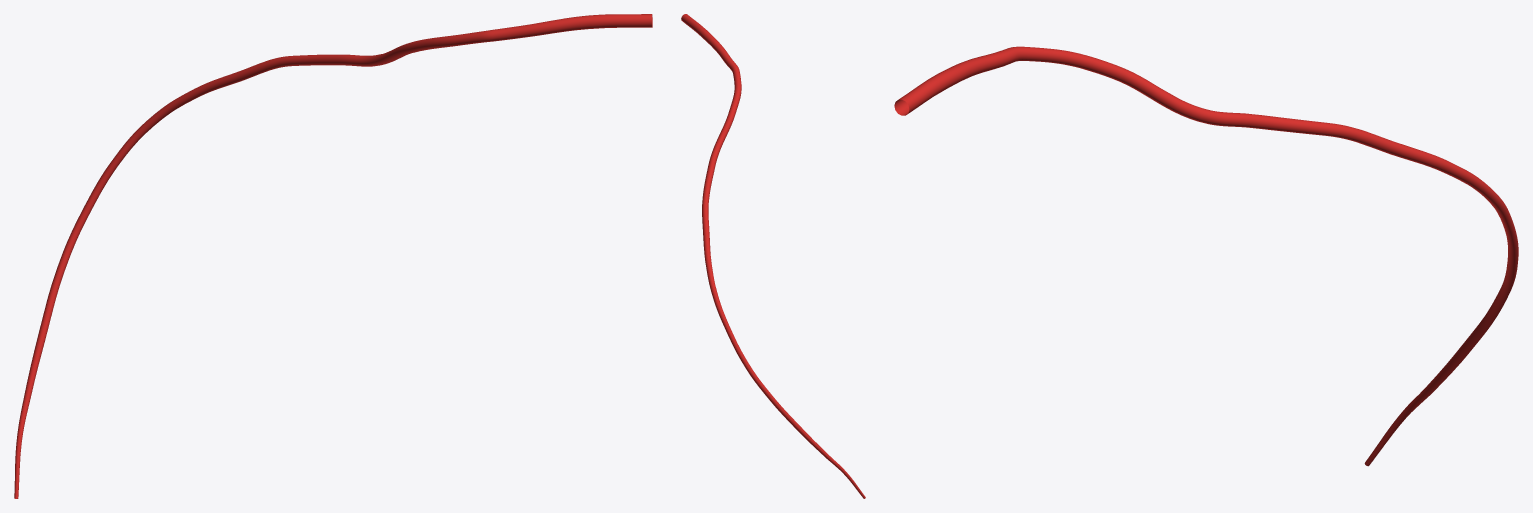
The model's file is circulatorio-subcostal-artery-r.glb.
3 views of the same model, side by side, from view 1: azimuth 30°, elevation 25°; view 2: azimuth 150°, elevation 25°; view 3: azimuth 270°, elevation 25° (orthographic). The views are drawn at different scales.
Visible parts, largest first — view 1: Subcostal artery.r; view 2: Subcostal artery.r; view 3: Subcostal artery.r.
Boxes of the visible parts, box(x1,y1,x2,y2) form: Subcostal artery.r: box(14, 14, 652, 498); Subcostal artery.r: box(681, 14, 865, 498); Subcostal artery.r: box(894, 46, 1518, 466).
Bounding box in the file's own units: 0.0782 × 0.0818 × 0.0707.
